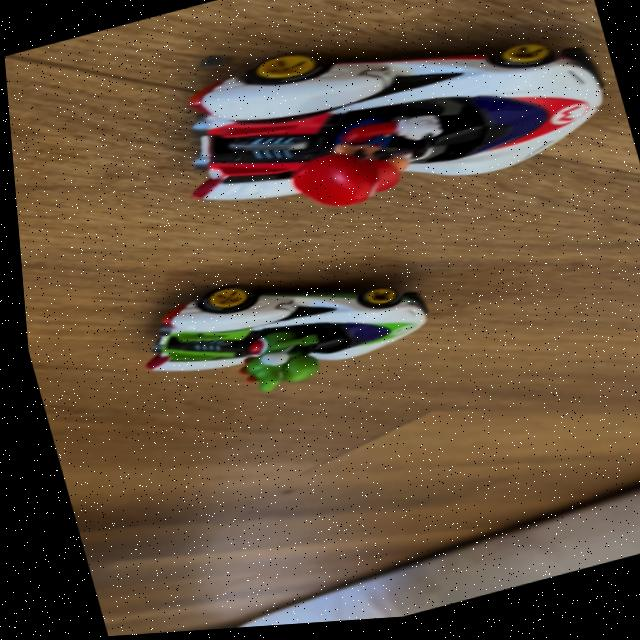mario: (135, 0, 637, 267)
yoshi: (112, 234, 454, 438)
